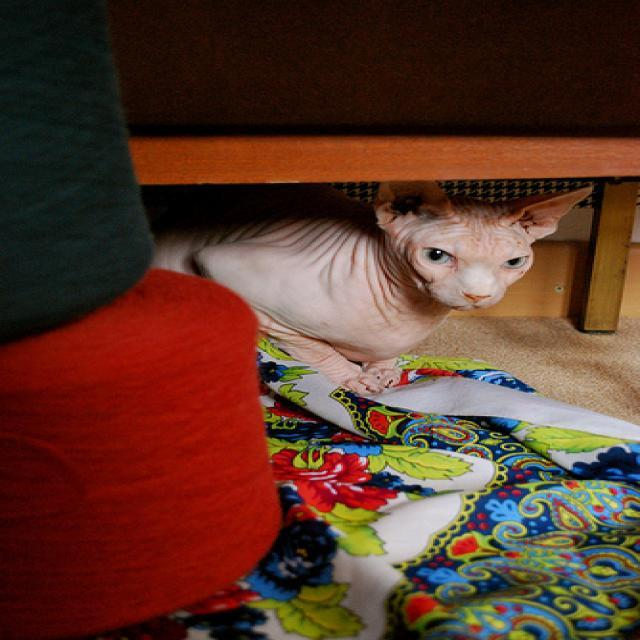Sphynx: (357, 153, 603, 316)
